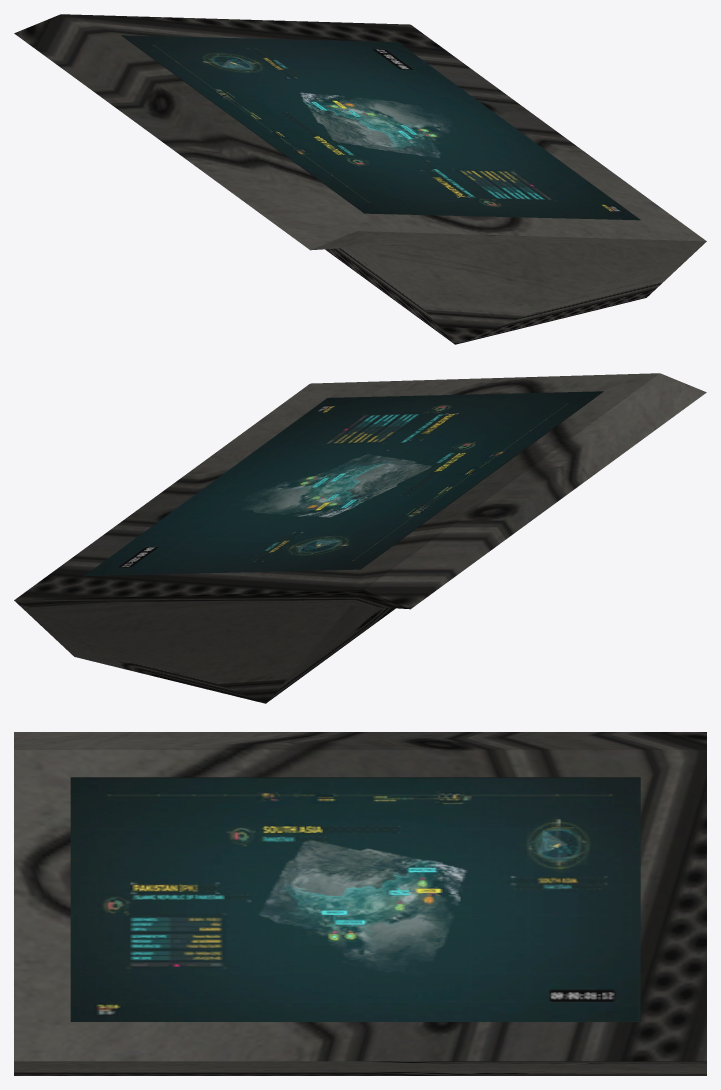
Rendered from p6_cic_touchscreen_radar_10_lod1.glb.
3 views of the same model, one above another, from view 1: azimuth 30°, elevation 25°; view 2: azimuth 150°, elevation 25°; view 3: azimuth 270°, elevation 25° (orthographic). The views are drawn at different scales.
Visible parts, largest first — view 1: surf1, surf0; view 2: surf1, surf0; view 3: surf0, surf1.
Part boxes in pixels (x1,y1,x2,y2): surf1: (14, 14, 706, 344); surf0: (121, 35, 640, 220); surf1: (14, 373, 706, 703); surf0: (84, 391, 603, 576); surf0: (70, 777, 640, 1021); surf1: (14, 732, 706, 1075).
Bounding box in the file's own units: 26.56 × 8.8 × 34.35.
